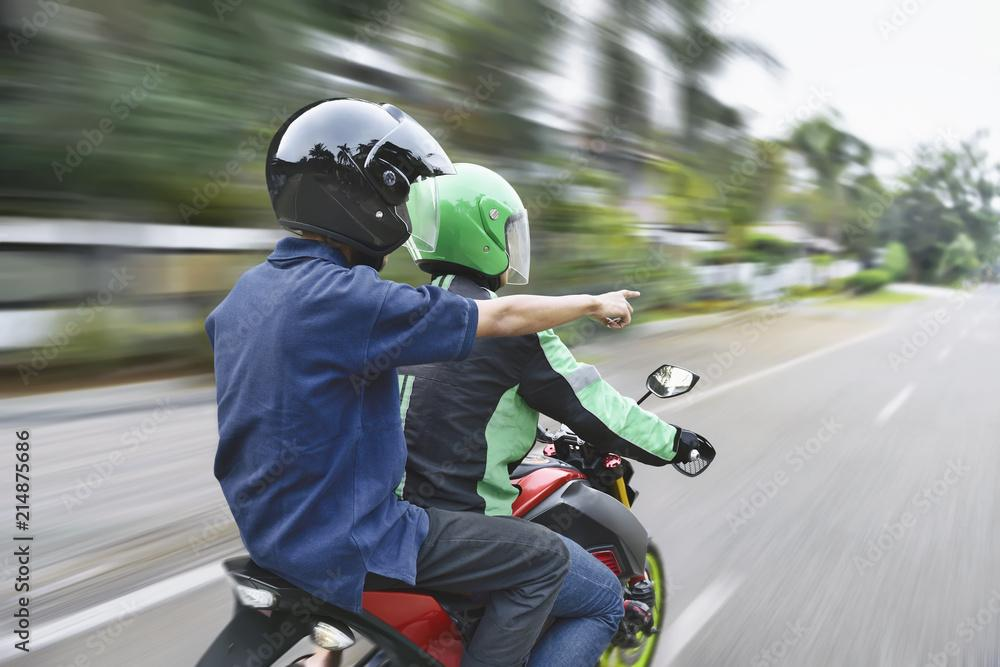helmet: (265, 96, 459, 259), (399, 161, 532, 293)
